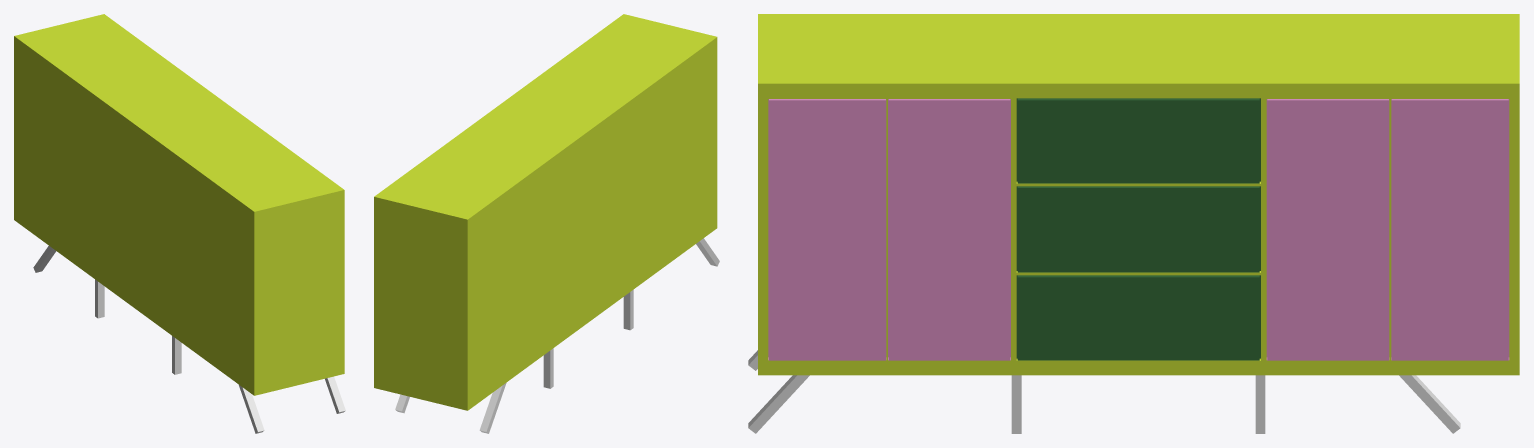
Rendered from _rinchador.FBX.
3 renders of one model, left to right at view 1: azimuth 30°, elevation 25°; view 2: azimuth 150°, elevation 25°; view 3: azimuth 270°, elevation 25°, orthographic. The views are drawn at different scales.
Parts seen in each view (by area): view 1: Box030, Box033; view 2: Box030, Box033; view 3: Box030, Box033.
Part boxes in pixels (x1,y1,x2,y2): Box030: (14, 14, 344, 395); Box033: (33, 246, 345, 433); Box030: (374, 14, 717, 410); Box033: (395, 238, 719, 433); Box030: (758, 14, 1519, 375); Box033: (748, 350, 1460, 433).
Bounding box in the file's own units: 48.34 × 112 × 223.
